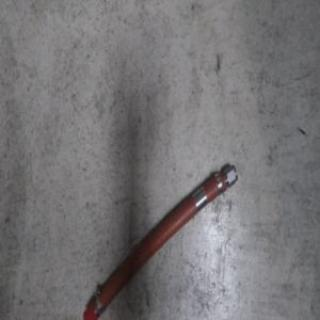Hosetrack_idkeyframe: (81, 158, 238, 319)
